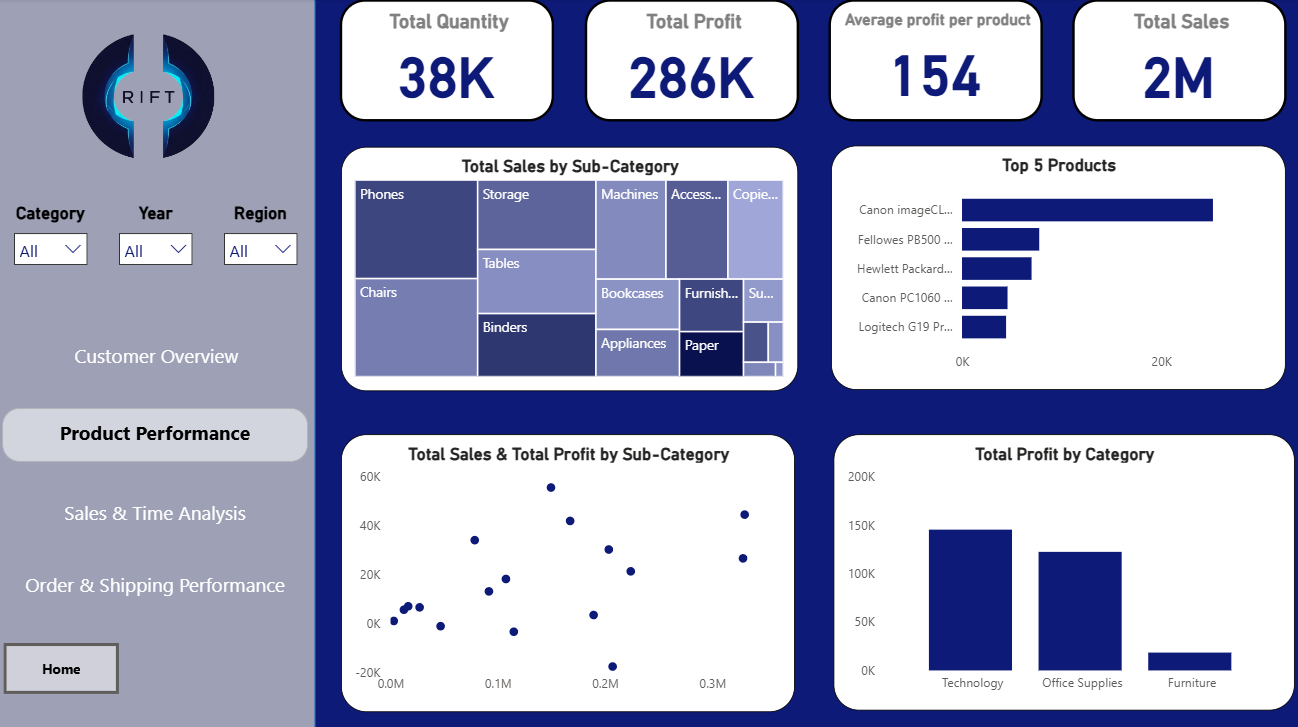

The page's visual inventory and layout, read from the dashboard file:
{"tool":"powerbi","page":{"name":"Product Performance","canvas":[1280,720],"ordinal":2},"visuals":[{"type":"shape","box":[0,0,313.8,720],"z":0},{"type":"slicer","title":"Year","fields":{"Values":["DateDim.Order Date.Variation.Date Hierarchy.Year"]},"box":[110.5,201.6,92.6,63.2],"z":1000},{"type":"slicer","title":"Category","fields":{"Values":["ProductDim.Category"]},"box":[7.9,201.6,92.1,63.7],"z":2000},{"type":"slicer","title":"Region","fields":{"Values":["CustomerDim.Region"]},"box":[213.7,201.6,92.1,63.2],"z":3000},{"type":"image","box":[18.6,0,262.9,191.4],"z":4000},{"type":"actionButton","box":[7.8,633.3,113.3,50],"z":5000},{"type":"textbox","box":[7.5,333.8,300,52.5],"z":6000},{"type":"textbox","box":[6.2,402.5,300,52.5],"z":7000},{"type":"textbox","box":[6.2,487.5,300,52.5],"z":8000},{"type":"textbox","box":[6.2,558.8,300,52.5],"z":9000},{"type":"treemap","title":"Total Sales by Sub-Category","fields":{"Group":["ProductDim.Category Hierarchy.Category","ProductDim.Category Hierarchy.Sub-Category","ProductDim.Category Hierarchy.Product Name"],"Values":["DAX_Table.Total_Sales"]},"box":[338.6,145.7,448.6,240],"z":10000},{"type":"barChart","title":"Top 5 Products","fields":{"Category":["ProductDim.Product Name"],"Y":["DAX_Table.Total_Profit"]},"box":[820,145,446.2,240],"z":11000},{"type":"scatterChart","title":"Total Sales & Total Profit by Sub-Category","fields":{"X":["DAX_Table.Total_Sales"],"Y":["DAX_Table.Total_Profit"],"Category":["ProductDim.Category Hierarchy.Sub-Category"]},"box":[338.6,428.6,445.7,272.9],"z":12000},{"type":"columnChart","title":"Total Profit by Category","fields":{"Category":["ProductDim.Category Hierarchy.Category"],"Y":["DAX_Table.Total_Profit"]},"box":[822.5,428.8,452.5,271.2],"z":13000},{"type":"card","title":"Total Quantity","fields":{"Values":["DAX_Table.Total_QTY"]},"box":[338,1.4,210,120],"z":14000},{"type":"card","title":"Total Profit","fields":{"Values":["DAX_Table.Total_Profit"]},"box":[577.6,1.4,210,120],"z":15000},{"type":"card","title":"Average profit per product","fields":{"Values":["DAX_Table.Average_Profit_per_product"]},"box":[817.1,1.4,210,120],"z":16000},{"type":"card","title":"Total Sales","fields":{"Values":["DAX_Table.Total_Sales"]},"box":[1056.7,1.4,210,120],"z":17000},{"type":"actionButton","box":[5.7,320,300,65.7],"z":18000},{"type":"actionButton","box":[5.7,558.6,300,52.9],"z":19000},{"type":"actionButton","box":[8.6,487.1,297.1,52.9],"z":20000}]}

Visuals, with their boxes in screenshot pixels (x1, y1, x2, y2), scaled from the page's 1280x720 canvas onto the 1298x727 screenshot:
shape: crop(0, 0, 318, 726)
"Year" slicer: crop(112, 204, 206, 267)
"Category" slicer: crop(8, 204, 101, 268)
"Region" slicer: crop(217, 204, 310, 267)
image: crop(19, 0, 285, 193)
actionButton: crop(8, 639, 123, 690)
textbox: crop(8, 337, 312, 390)
textbox: crop(6, 406, 311, 459)
textbox: crop(6, 492, 311, 545)
textbox: crop(6, 564, 311, 617)
"Total Sales by Sub-Category" treemap: crop(343, 147, 798, 389)
"Top 5 Products" barChart: crop(832, 146, 1284, 389)
"Total Sales & Total Profit by Sub-Category" scatterChart: crop(343, 433, 795, 708)
"Total Profit by Category" columnChart: crop(834, 433, 1293, 707)
"Total Quantity" card: crop(343, 1, 556, 123)
"Total Profit" card: crop(586, 1, 799, 123)
"Average profit per product" card: crop(829, 1, 1042, 123)
"Total Sales" card: crop(1072, 1, 1285, 123)
actionButton: crop(6, 323, 310, 389)
actionButton: crop(6, 564, 310, 617)
actionButton: crop(9, 492, 310, 545)
